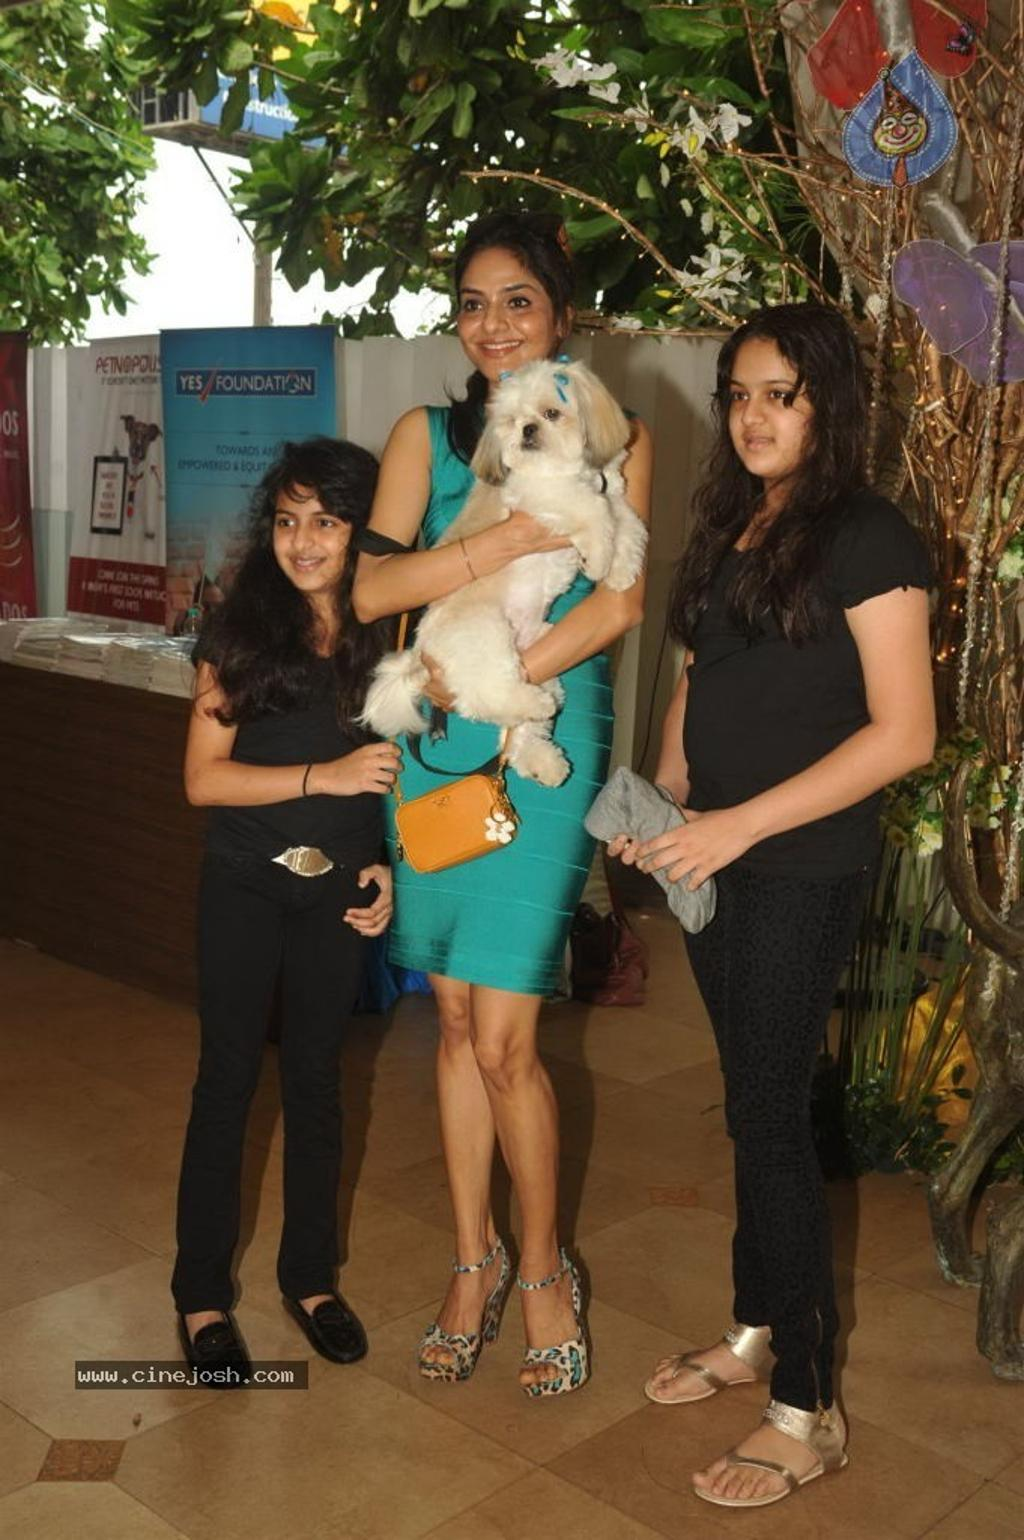face: (453, 243, 552, 387), (718, 327, 817, 468), (267, 471, 357, 585)
